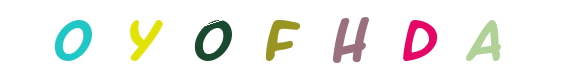A: (383, 0, 463, 80)
D: (379, 0, 459, 80)
F: (242, 0, 322, 80)
H: (276, 0, 356, 80)
O: (33, 0, 113, 80), (173, 0, 253, 80)
Y: (103, 0, 183, 80)
